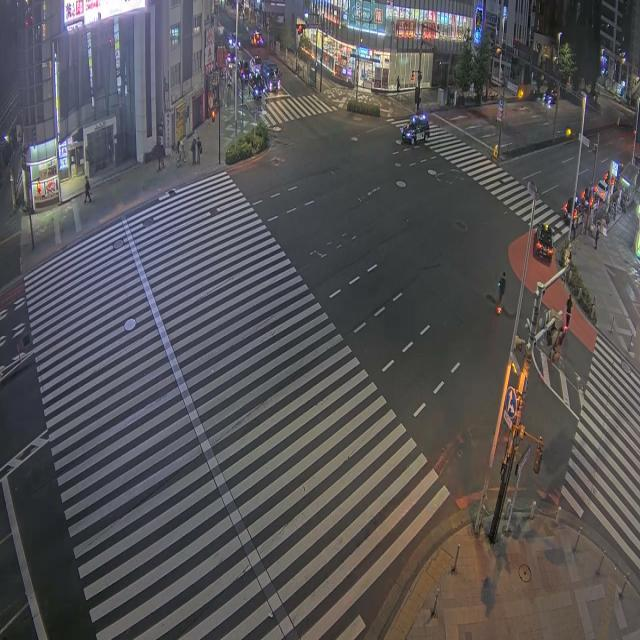car: (400, 112, 429, 144), (534, 224, 553, 261), (562, 195, 579, 225), (262, 64, 280, 92), (247, 74, 265, 99), (594, 180, 608, 202), (237, 60, 249, 80), (543, 89, 556, 105), (250, 30, 262, 47), (249, 56, 261, 73), (226, 52, 235, 71), (227, 33, 238, 47)
